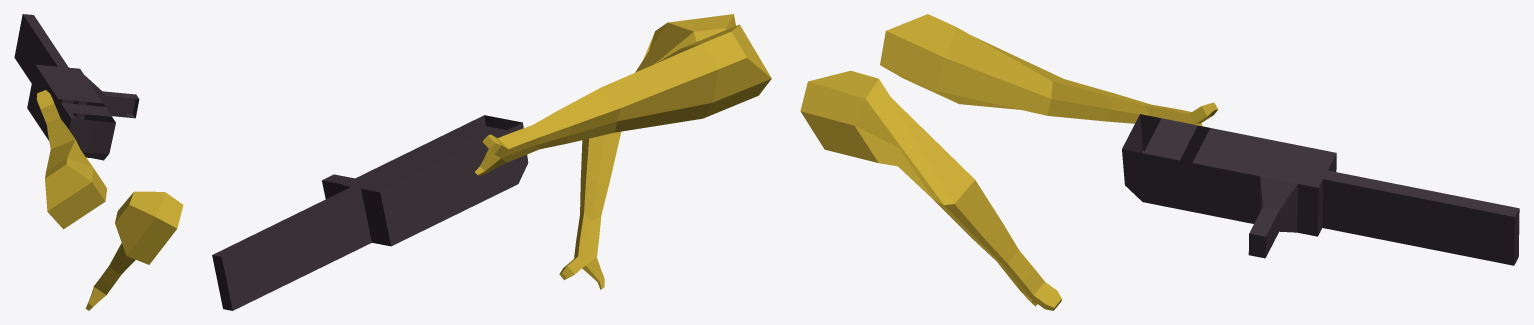
File: arme_000181.obj
The picture shows the model from 3 angles, left to right: view 1: azimuth 30°, elevation 25°; view 2: azimuth 150°, elevation 25°; view 3: azimuth 270°, elevation 25°; orthographic projection. The views are drawn at different scales.
Visible parts, largest first — view 1: Cube.048_Cube.024, Cube.046_Cube.010; view 2: Cube.046_Cube.010, Cube.048_Cube.024; view 3: Cube.046_Cube.010, Cube.048_Cube.024.
Boxes of the visible parts, box(x1,y1,x2,y2) form: Cube.048_Cube.024: box(36, 90, 183, 310); Cube.046_Cube.010: box(14, 14, 139, 160); Cube.046_Cube.010: box(212, 115, 528, 310); Cube.048_Cube.024: box(475, 14, 771, 289); Cube.046_Cube.010: box(1122, 114, 1519, 265); Cube.048_Cube.024: box(800, 14, 1218, 310).
Size of the model in its own units: 1224 by 1001 by 2591.
